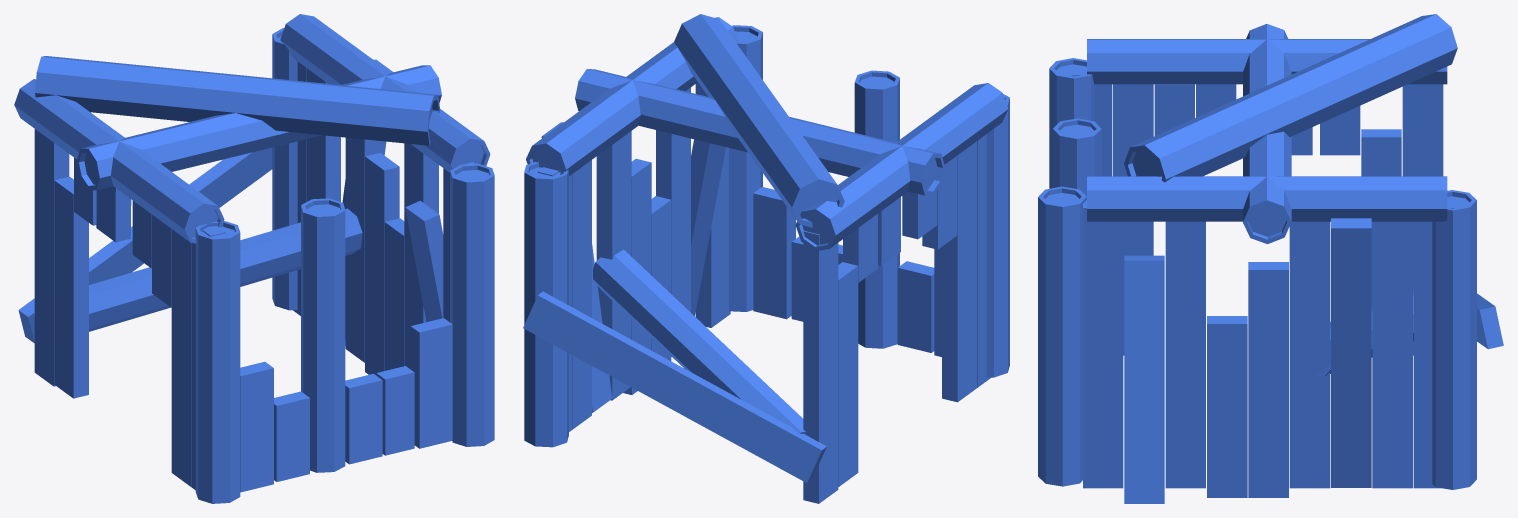
File: Building_Abandoned_Variant2.fbx
3 renders of one model, left to right at view 1: azimuth 30°, elevation 25°; view 2: azimuth 150°, elevation 25°; view 3: azimuth 270°, elevation 25°, orthographic. The views are drawn at different scales.
Parts seen in each view (by area): view 1: Building_Abandoned_Variant2; view 2: Building_Abandoned_Variant2; view 3: Building_Abandoned_Variant2.
Part boxes in pixels (box(x1,y1,x2,y2)): Building_Abandoned_Variant2: box(14, 14, 494, 503); Building_Abandoned_Variant2: box(523, 14, 1009, 503); Building_Abandoned_Variant2: box(1038, 14, 1503, 503).
Bounding box in the file's own units: 270 × 246 × 301.
